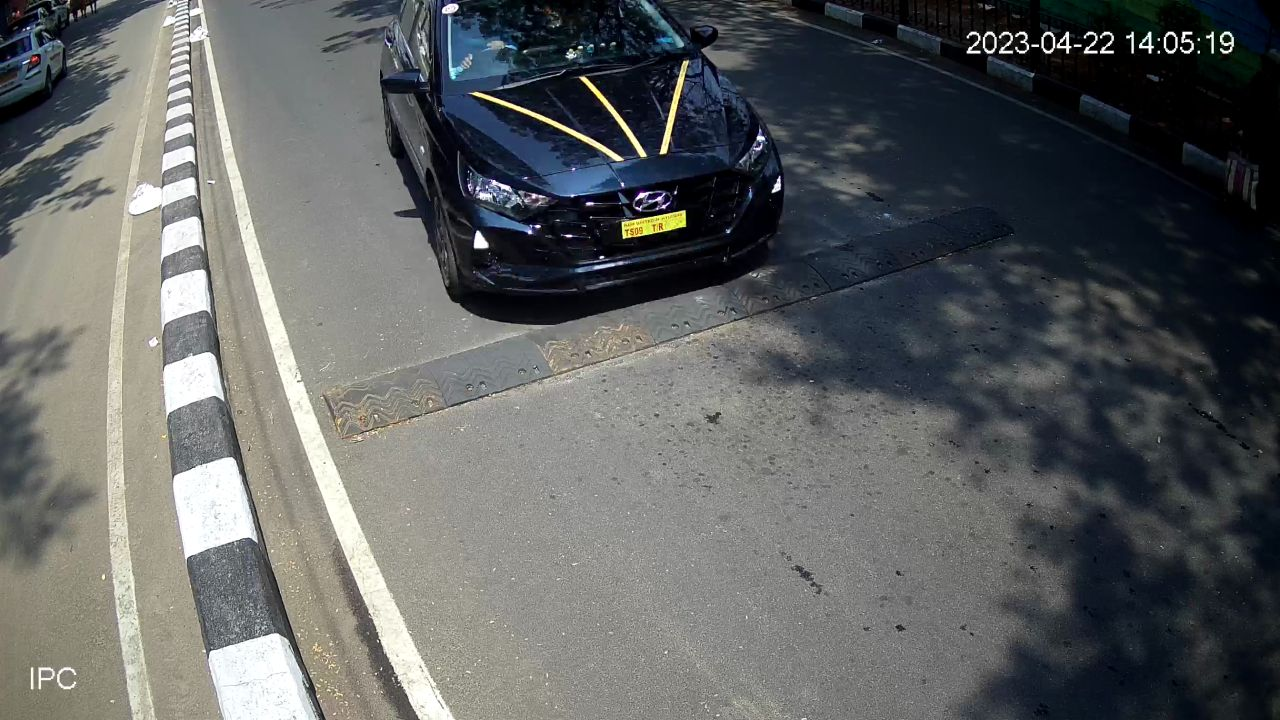license_plate: (618, 207, 689, 245)
